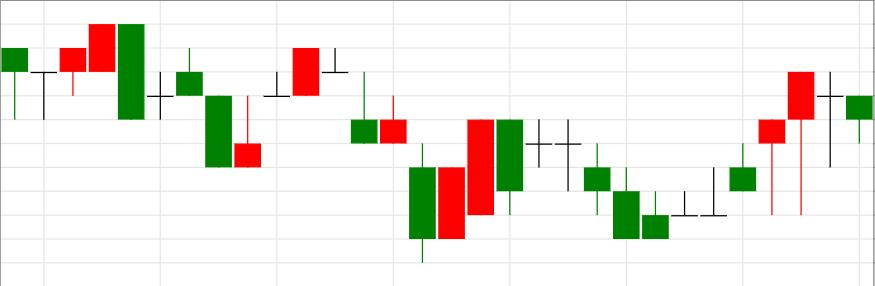hanging_man_fall: (641, 70, 816, 239)
inverse_hammer_rise: (87, 22, 262, 169)
